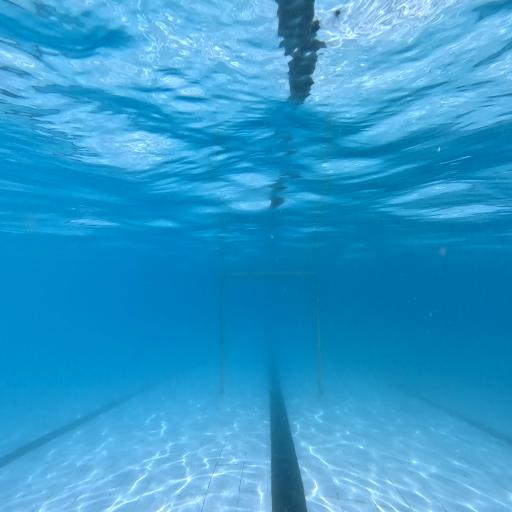gate: (219, 272, 324, 398)
